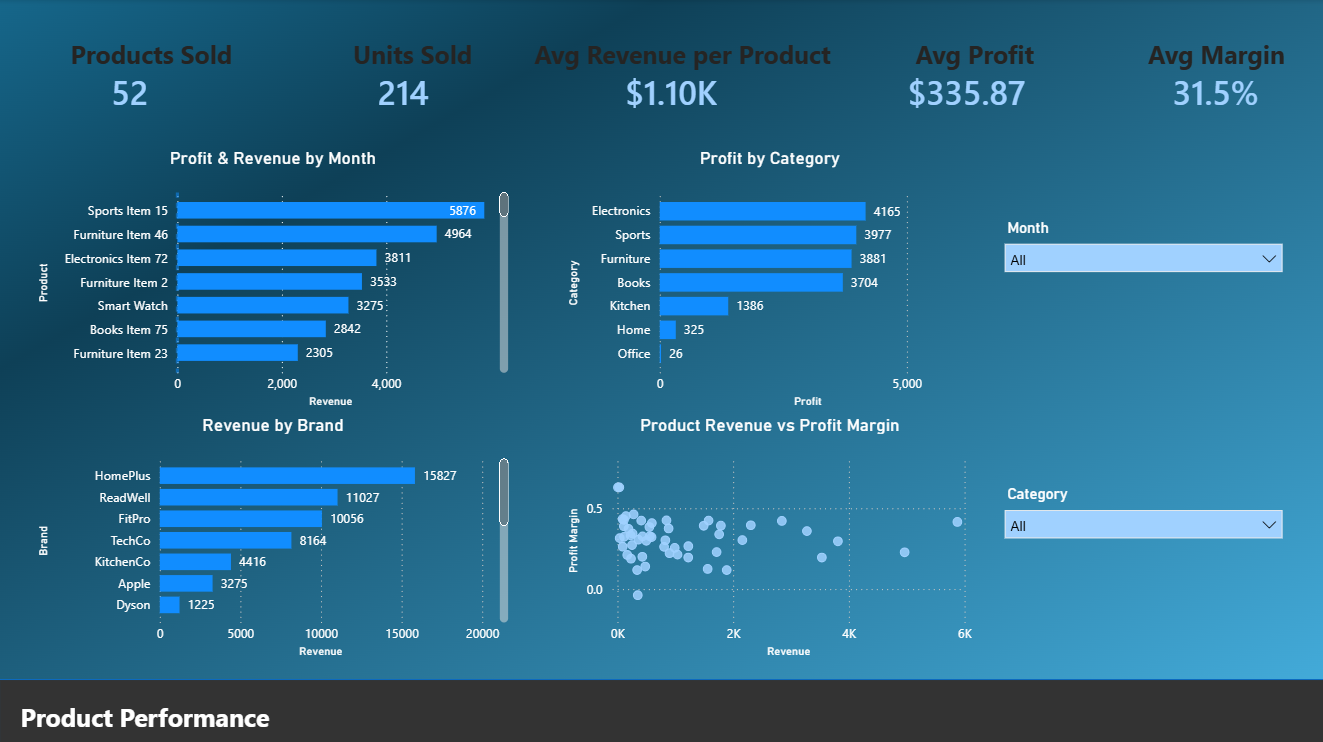

The page's visual inventory and layout, read from the dashboard file:
{"tool":"powerbi","page":{"name":"Products","canvas":[1280,720],"ordinal":1},"visuals":[{"type":"shape","box":[0,656,1280,64],"z":0},{"type":"cardVisual","fields":{"Data":["FACT_SALES.Avg Profit per Product"]},"box":[848,48,192,80],"z":1000},{"type":"cardVisual","fields":{"Data":["FACT_SALES.Avg Product Margin %"]},"box":[1104,48,160,80],"z":2000},{"type":"cardVisual","fields":{"Data":["FACT_SALES.Products Sold"]},"box":[80,48,192,80],"z":3000},{"type":"cardVisual","fields":{"Data":["FACT_SALES.Avg Revenue per Product"]},"box":[576,48,192,80],"z":4000},{"type":"cardVisual","fields":{"Data":["FACT_SALES.Units Sold"]},"box":[336,48,192,80],"z":5000},{"type":"textbox","box":[64,32,192,48],"z":6000},{"type":"textbox","box":[1104,32,160,48],"z":7000},{"type":"textbox","box":[880,32,144,48],"z":8000},{"type":"textbox","box":[512,32,336,48],"z":9000},{"type":"textbox","box":[336,32,160,48],"z":10000},{"type":"barChart","title":"Profit & Revenue by Month","fields":{"Category":["DIM_PRODUCT.PRODUCT_NAME"],"Y":["FACT_SALES.Avg Revenue per Product"]},"box":[32,144,464,256],"z":11000},{"type":"barChart","title":"Profit by Category","fields":{"Category":["DIM_PRODUCT.CATEGORY"],"Y":["FACT_SALES.Total Profit"]},"box":[544,144,400,256],"z":12000},{"type":"barChart","title":"Revenue by Brand","fields":{"Y":["FACT_SALES.Total Revenue"],"Category":["DIM_PRODUCT.BRAND"]},"box":[32,400,464,240],"z":13000},{"type":"scatterChart","title":"Product Revenue vs Profit Margin","fields":{"Category":["DIM_PRODUCT.PRODUCT_NAME"],"Y":["FACT_SALES.Profit Margin %"],"X":["FACT_SALES.Total Revenue"]},"box":[544,400,400,240],"z":14000},{"type":"slicer","fields":{"Values":["DIM_DATE.MONTH_NAME"]},"box":[960,208,288,80],"z":15000},{"type":"slicer","fields":{"Values":["DIM_PRODUCT.CATEGORY"]},"box":[960,464,288,80],"z":16000},{"type":"textbox","box":[16,672,384,48],"z":17000}]}

Visuals, with their boxes in screenshot pixels (x1, y1, x2, y2), scaled from the page's 1280x720 canvas onto the 1323x742 screenshot:
shape: {"x1": 0, "y1": 676, "x2": 1322, "y2": 741}
cardVisual - FACT_SALES.Avg Profit per Product: {"x1": 876, "y1": 49, "x2": 1075, "y2": 132}
cardVisual - FACT_SALES.Avg Product Margin %: {"x1": 1141, "y1": 49, "x2": 1306, "y2": 132}
cardVisual - FACT_SALES.Products Sold: {"x1": 83, "y1": 49, "x2": 281, "y2": 132}
cardVisual - FACT_SALES.Avg Revenue per Product: {"x1": 595, "y1": 49, "x2": 794, "y2": 132}
cardVisual - FACT_SALES.Units Sold: {"x1": 347, "y1": 49, "x2": 546, "y2": 132}
textbox: {"x1": 66, "y1": 33, "x2": 265, "y2": 82}
textbox: {"x1": 1141, "y1": 33, "x2": 1306, "y2": 82}
textbox: {"x1": 910, "y1": 33, "x2": 1058, "y2": 82}
textbox: {"x1": 529, "y1": 33, "x2": 876, "y2": 82}
textbox: {"x1": 347, "y1": 33, "x2": 513, "y2": 82}
"Profit & Revenue by Month" barChart: {"x1": 33, "y1": 148, "x2": 513, "y2": 412}
"Profit by Category" barChart: {"x1": 562, "y1": 148, "x2": 976, "y2": 412}
"Revenue by Brand" barChart: {"x1": 33, "y1": 412, "x2": 513, "y2": 660}
"Product Revenue vs Profit Margin" scatterChart: {"x1": 562, "y1": 412, "x2": 976, "y2": 660}
slicer - DIM_DATE.MONTH_NAME: {"x1": 992, "y1": 214, "x2": 1290, "y2": 297}
slicer - DIM_PRODUCT.CATEGORY: {"x1": 992, "y1": 478, "x2": 1290, "y2": 561}
textbox: {"x1": 17, "y1": 693, "x2": 413, "y2": 741}
